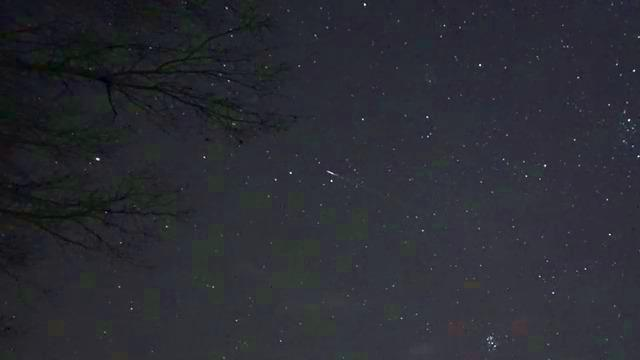meteorite: (309, 167, 356, 179)
